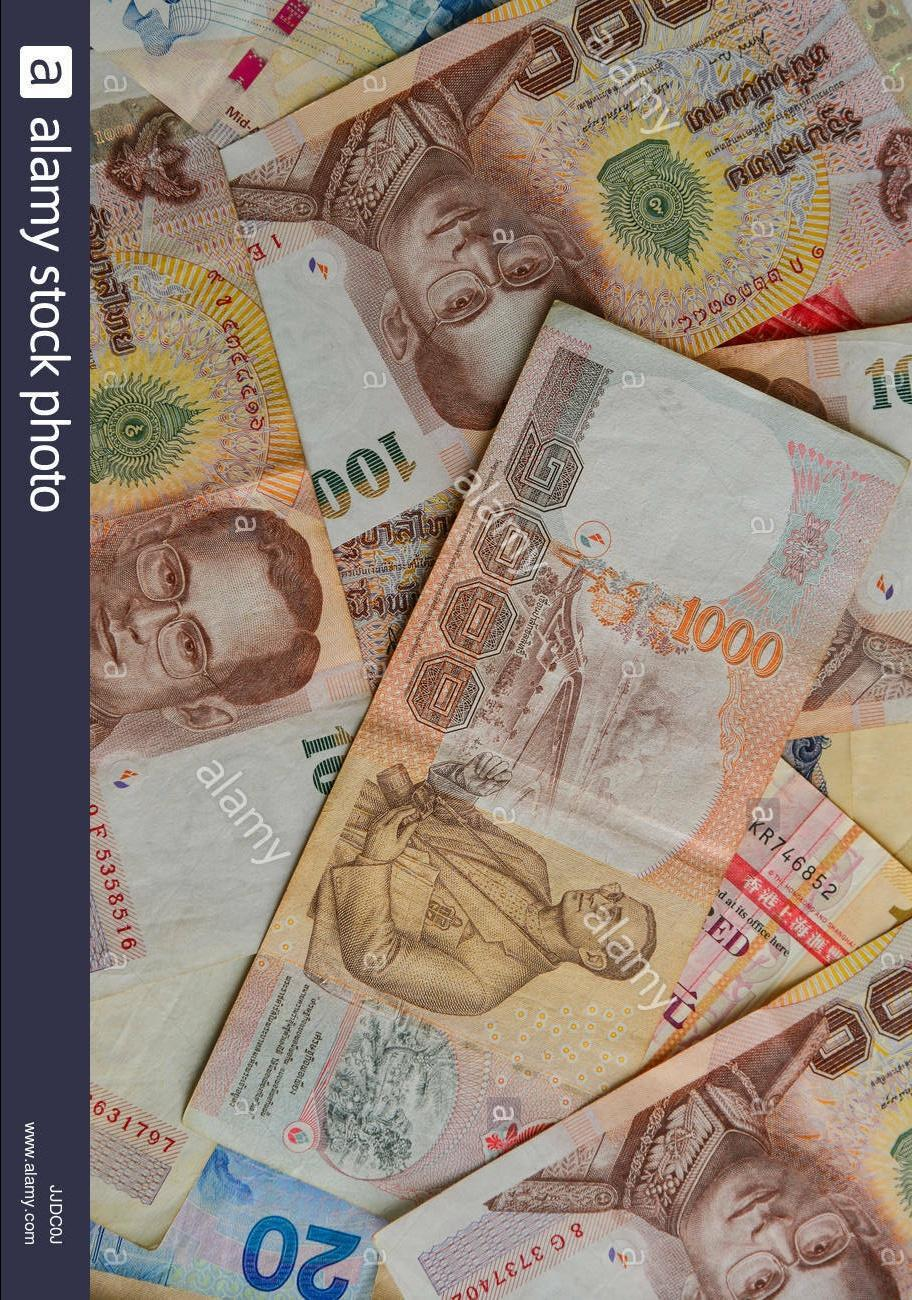1000BahtTai: (175, 291, 912, 1185)
